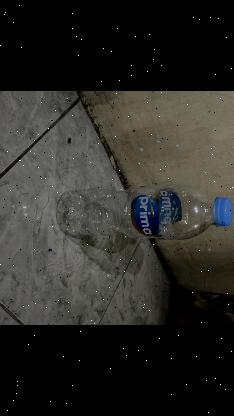Plastic Bottle: (11, 185, 234, 241)
